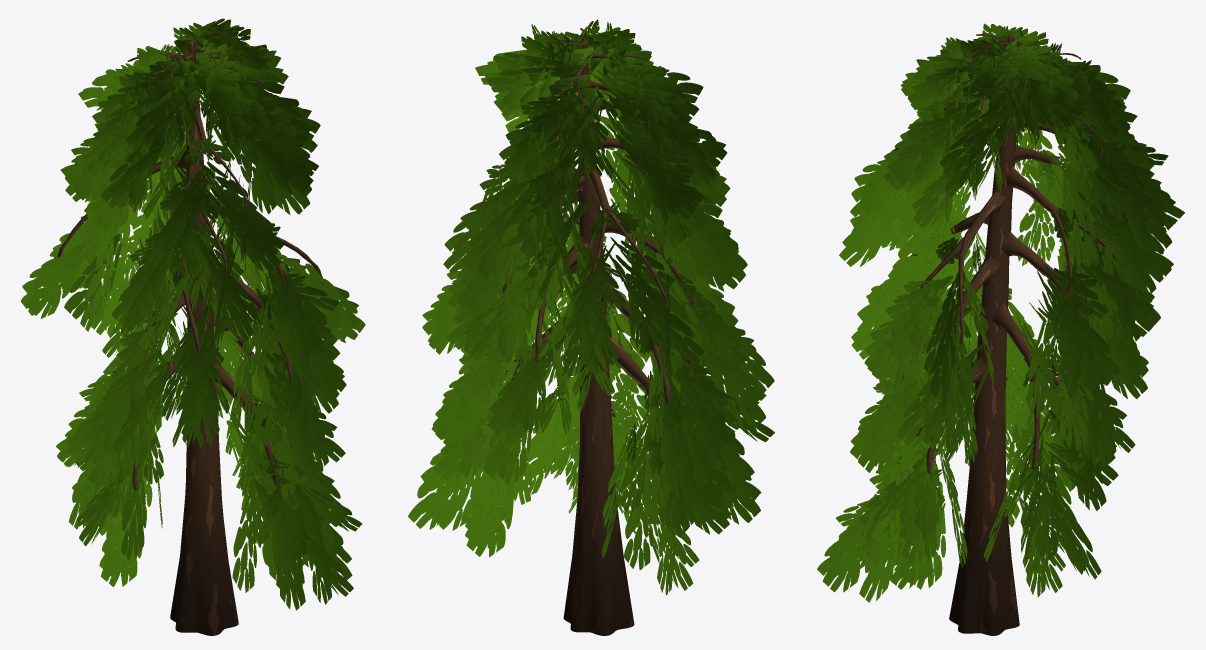
The model's file is GiantPine_1.glb.
3 renders of one model, left to right at view 1: azimuth 30°, elevation 25°; view 2: azimuth 150°, elevation 25°; view 3: azimuth 270°, elevation 25°, orthographic. The views are drawn at different scales.
Visible parts, largest first — view 1: GiantPine_1; view 2: GiantPine_1; view 3: GiantPine_1.
Part boxes in pixels (left/top/right/bottom): GiantPine_1: left=20, top=18, right=365, bottom=635; GiantPine_1: left=408, top=19, right=774, bottom=635; GiantPine_1: left=817, top=23, right=1184, bottom=635.
Bounding box in the file's own units: 9.19 × 17.17 × 9.94.
Materials: 2 (2 with a texture image).
